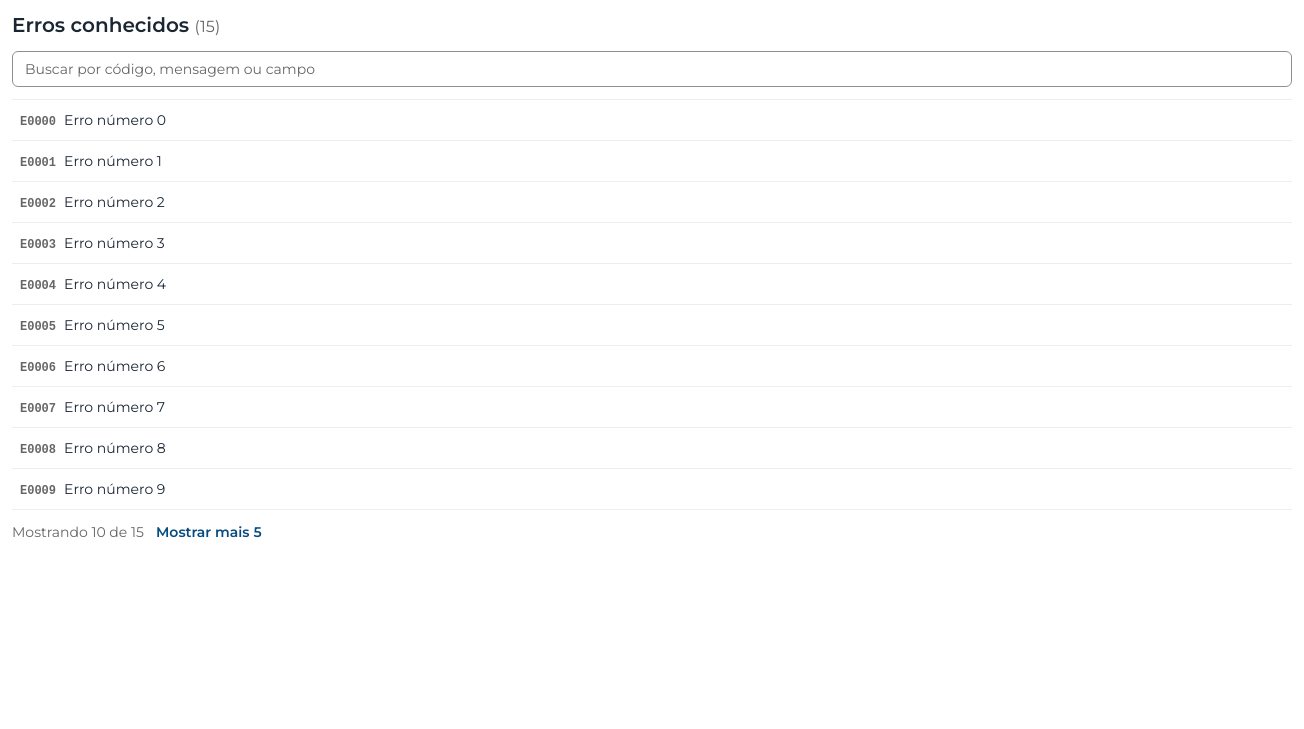
Test: ErrosConhecidos — quantidade › mostra 10 de cada vez, com o total à vista
expect the text "Erro número 0" is shown: met, box [64,111,166,129]
expect the text "Mostrando 10 de 15" is shown: met, box [12,522,144,542]
Click the button "Mostrar mais 5": x=209, y=532 [156,522,262,542]
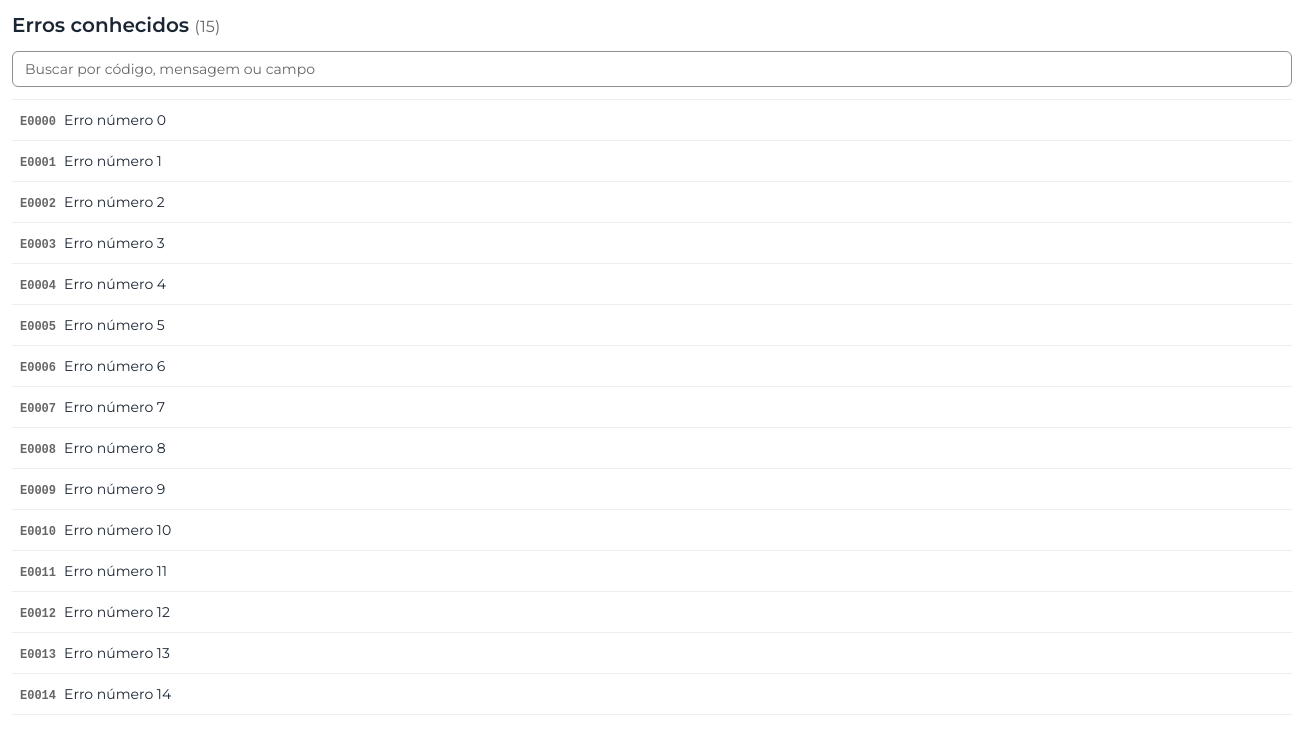
expect the button "Mostrar mais" is gone: met
